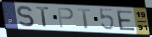5: (98, 7, 116, 32)
E: (115, 10, 137, 32)
P: (56, 6, 75, 29)
S: (15, 5, 36, 28)
T: (35, 6, 51, 28), (77, 8, 92, 30)
